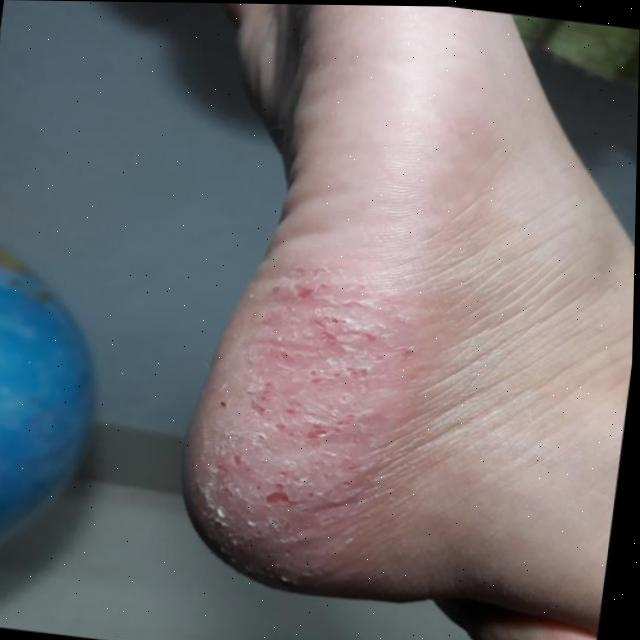Eczema: (238, 314, 383, 502)
